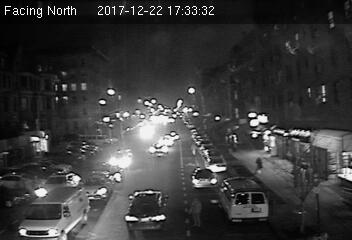car: (124, 188, 170, 230), (77, 170, 114, 203), (190, 165, 218, 189), (108, 148, 134, 168), (205, 156, 228, 173), (147, 142, 168, 157)
police: (34, 170, 80, 202)
truck: (19, 185, 90, 240)
